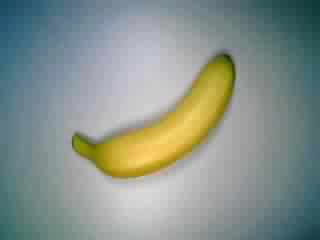banana: (67, 50, 240, 185)
